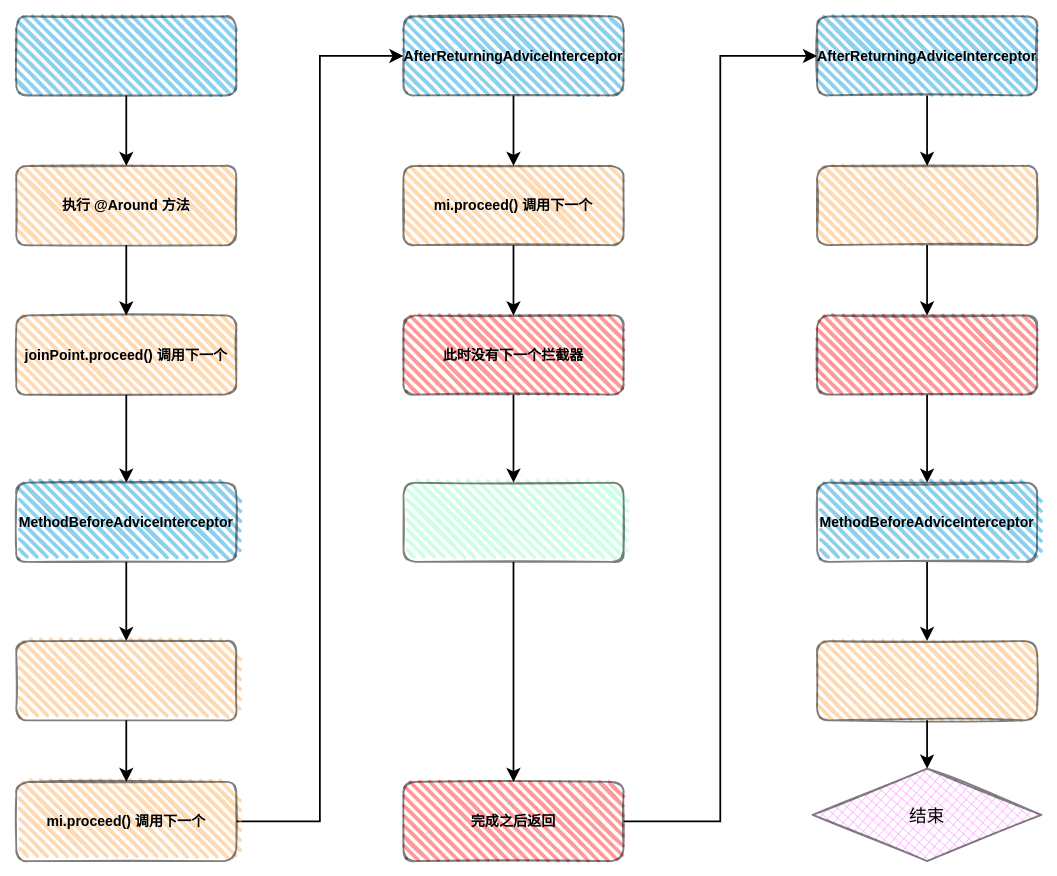
Some shapes in this 1057 by 876 pixel diagram are drawn without their labels. Here are the shapes that lost their labels. From the top down, the centre of each, then its label:
At point 126,55: "AbstractAspectJAdvice".
At point 927,205: "执行 @AfterReturning 方法".
At point 927,354: "返回上一个拦截器".
At point 513,521: "执行被代理方法".
At point 126,680: "执行 @Before 方法".
At point 927,680: "执行 joinPoint.proceed() 后续代码".
